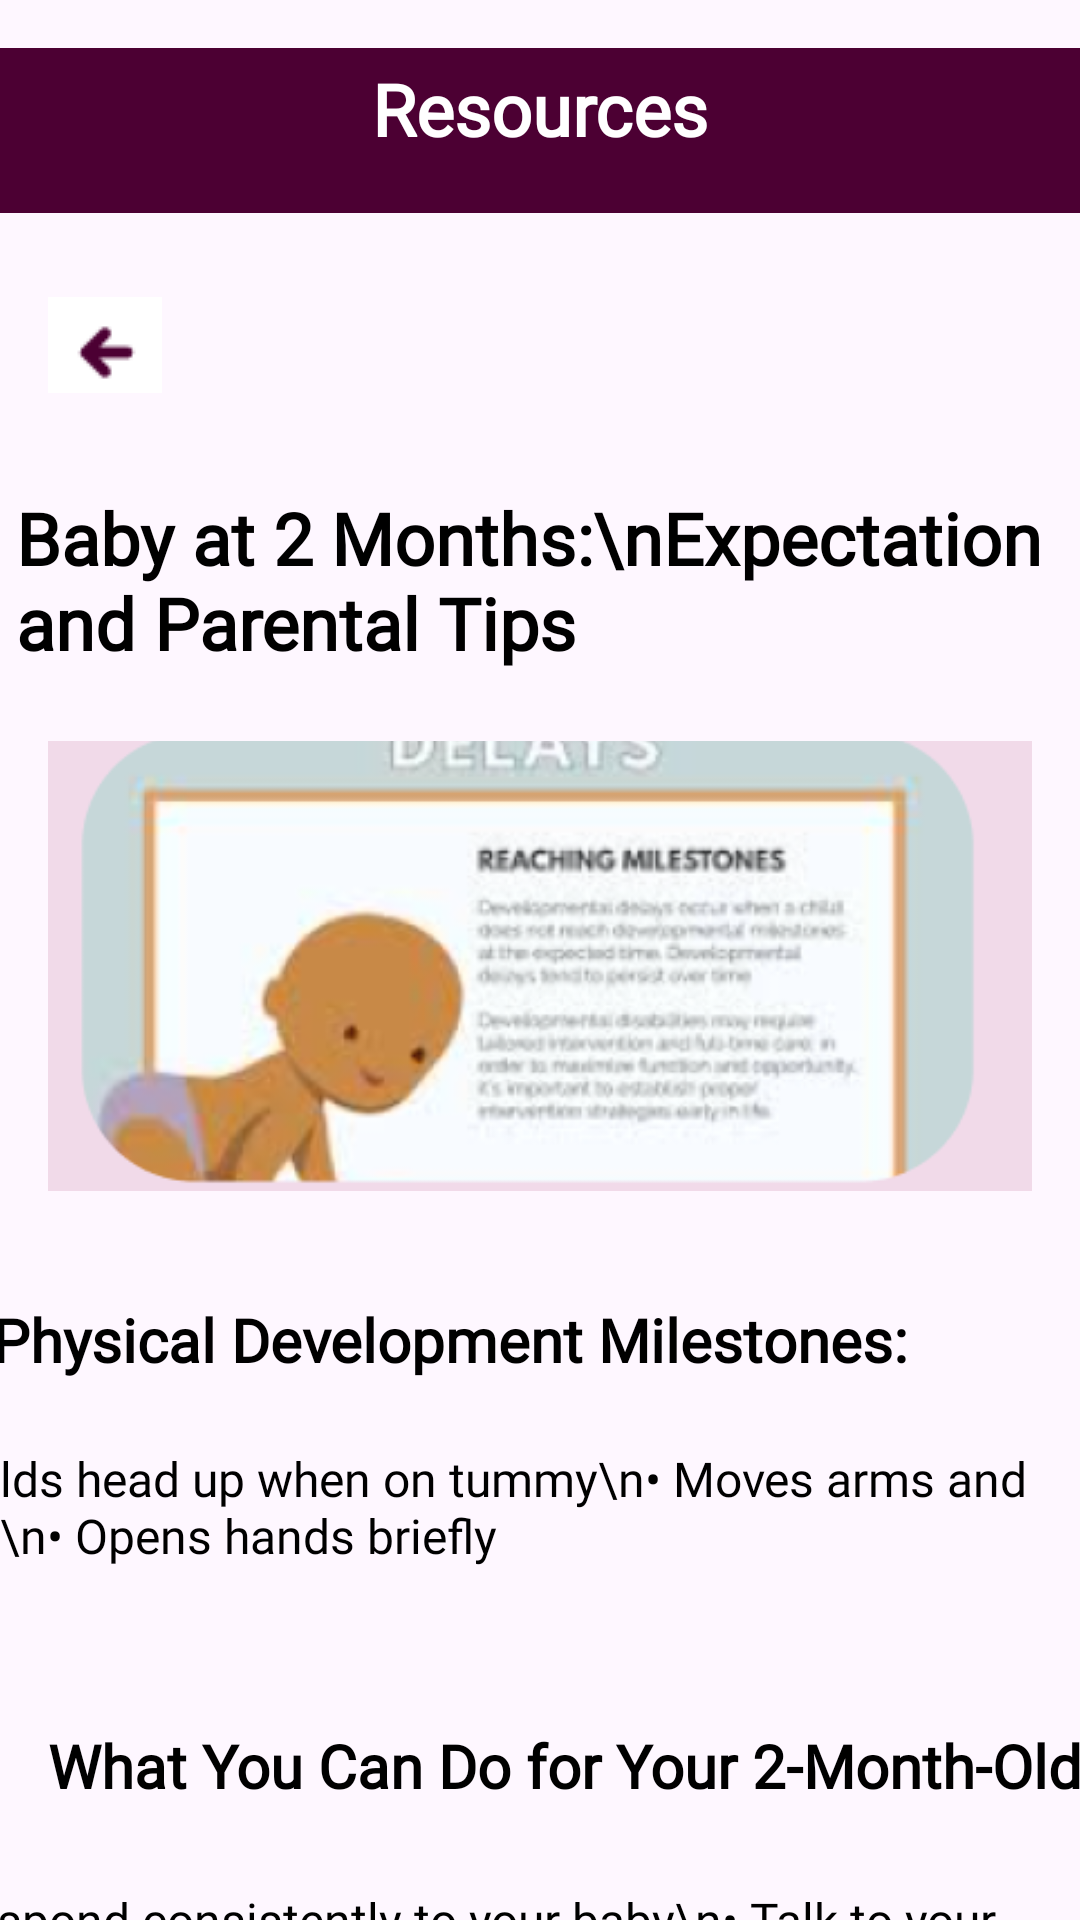

Where icons sit on this 1080px×1920px app screen, as region(x1, y1, x2, y2):
backarrow: region(78, 326, 135, 379)
